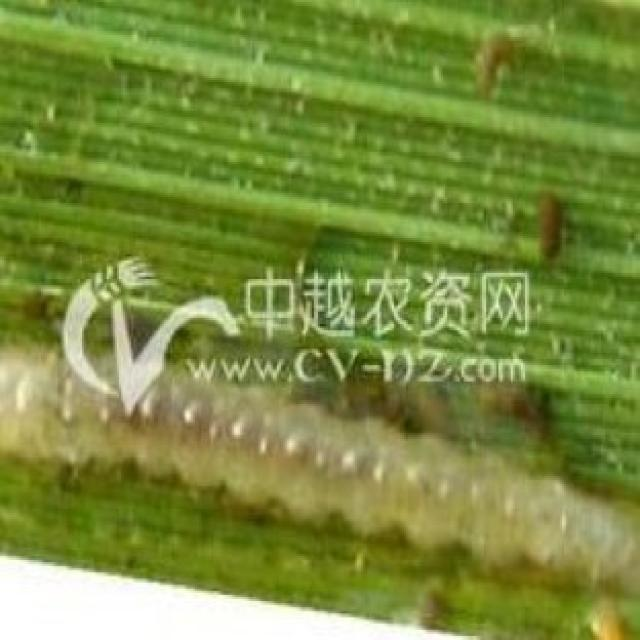rice leaf roller: (0, 281, 638, 638), (478, 39, 509, 92), (539, 193, 560, 258)
